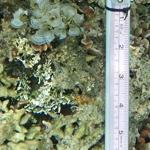dead: (24, 18, 102, 130)
